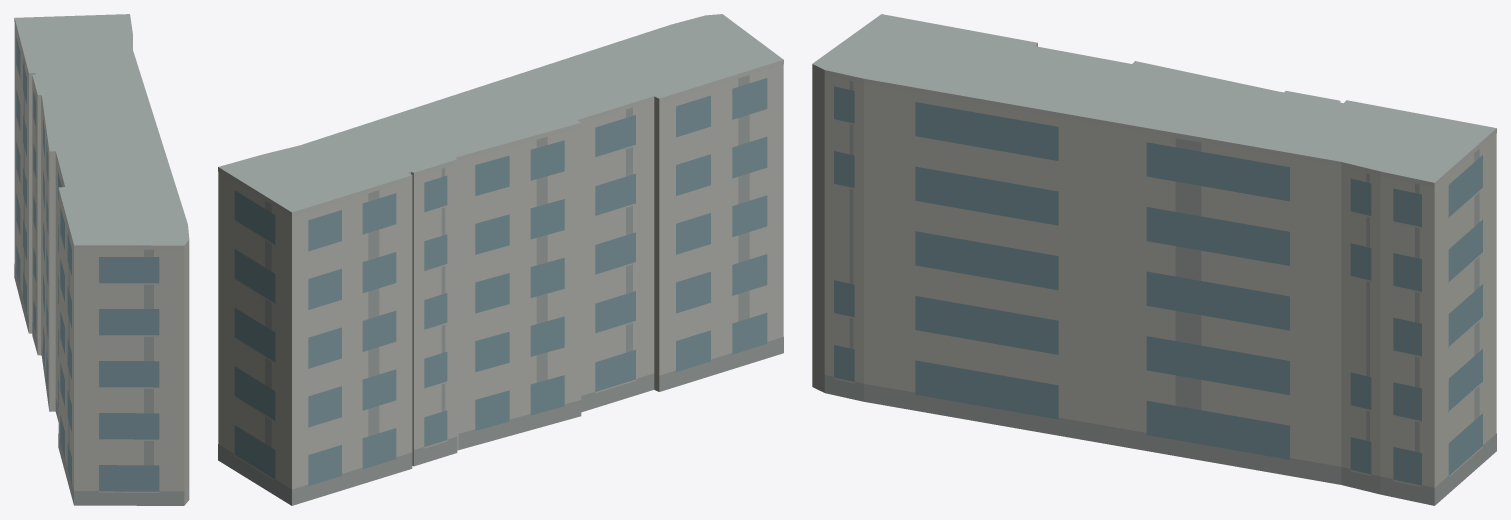
File: survey-upis-32899485.glb
The picture shows the model from 3 angles, left to right: view 1: azimuth 30°, elevation 25°; view 2: azimuth 150°, elevation 25°; view 3: azimuth 270°, elevation 25°; orthographic projection. The views are drawn at different scales.
Visible parts, largest first — view 1: survey-upis-32899485.tmp; view 2: survey-upis-32899485.tmp; view 3: survey-upis-32899485.tmp.
Part boxes in pixels (x1,y1,x2,y2): survey-upis-32899485.tmp: (14,14,189,505); survey-upis-32899485.tmp: (218,14,783,505); survey-upis-32899485.tmp: (812,14,1496,505).
Bounding box in the file's own units: 17.38 × 15.5 × 29.78.
